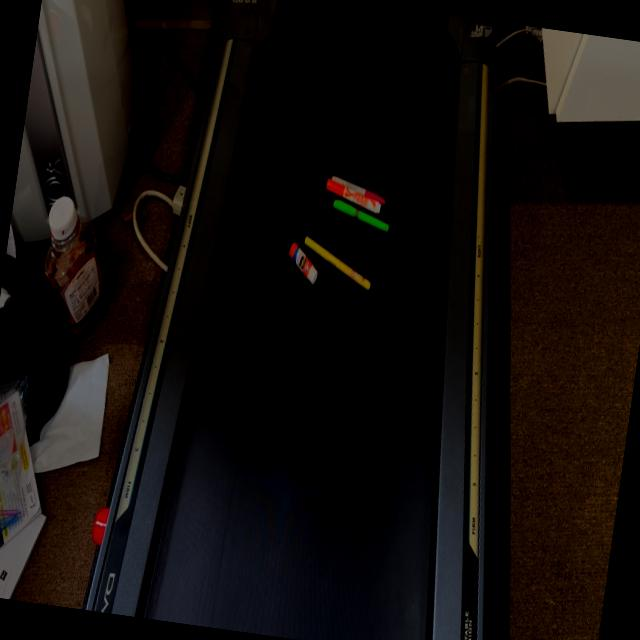Trash: (294, 148, 424, 244), (284, 235, 402, 297)
